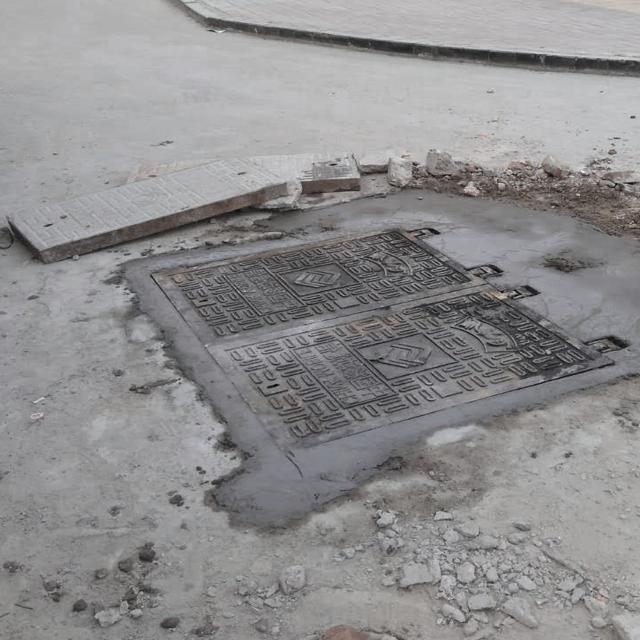good: (147, 221, 620, 452)
